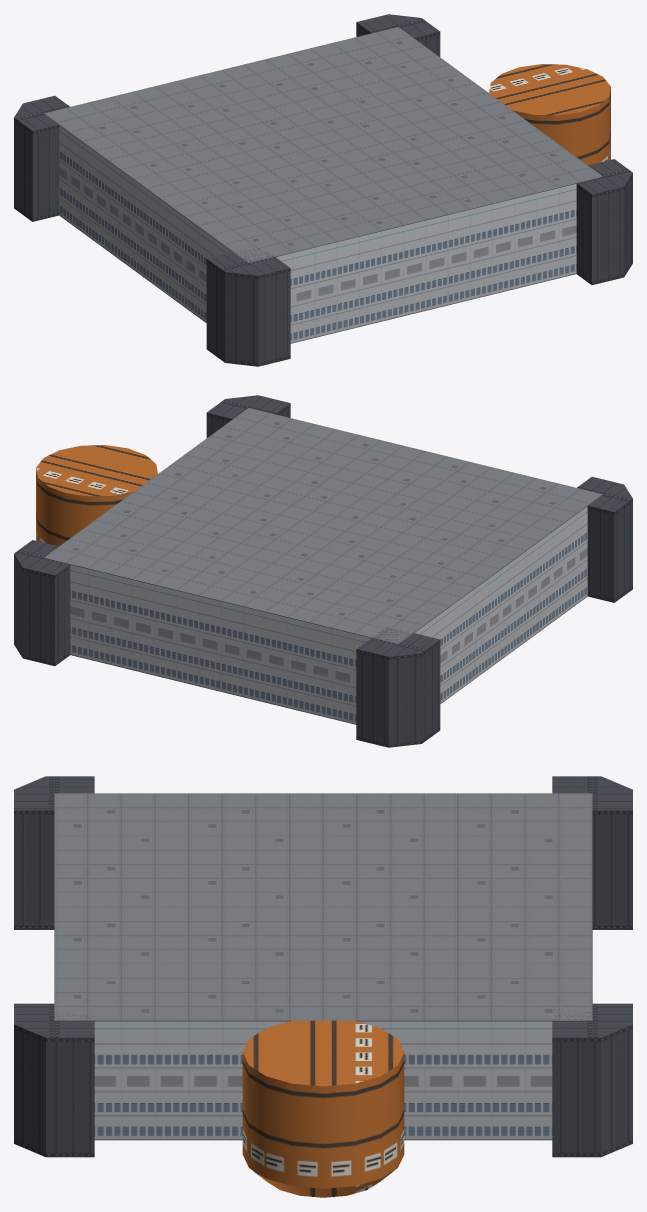
File: BLD_FLR_N_Silo_Start.fbx
3 renders of one model, top to bottom at view 1: azimuth 30°, elevation 25°; view 2: azimuth 150°, elevation 25°; view 3: azimuth 270°, elevation 25°, orthographic. The views are drawn at different scales.
Parts seen in each view (by area): view 1: BLD_FLR_N_Silo_Start; view 2: BLD_FLR_N_Silo_Start; view 3: BLD_FLR_N_Silo_Start.
Boxes of the visible parts, x1,y1,x2,y2 form: BLD_FLR_N_Silo_Start: (14,14,632,366); BLD_FLR_N_Silo_Start: (14,395,632,747); BLD_FLR_N_Silo_Start: (14,776,632,1197).
Size of the model in its own units: 136 by 24.5 by 115.
